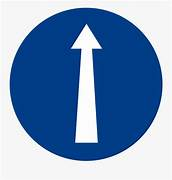forward: (8, 7, 162, 161)
